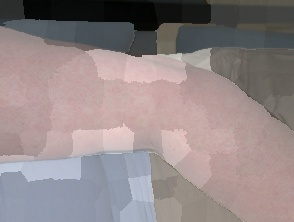SJS-TEN: (0, 23, 294, 222)
